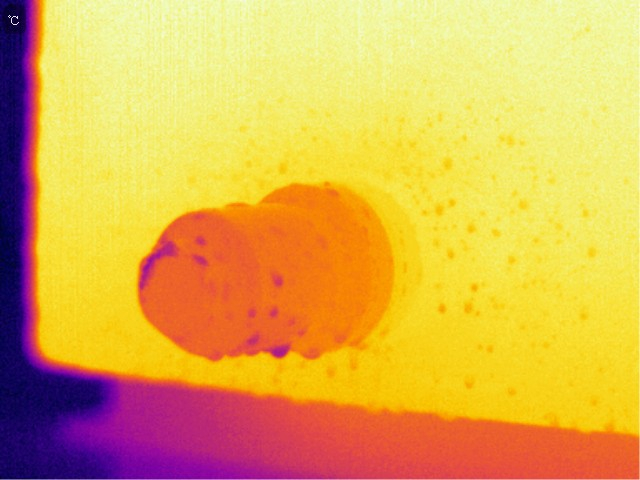Water: (266, 343, 293, 359), (225, 343, 243, 363), (268, 272, 286, 291), (300, 348, 325, 361), (243, 332, 262, 349), (332, 326, 349, 344), (210, 343, 223, 366), (191, 252, 210, 267), (266, 302, 281, 321), (244, 348, 262, 362), (193, 235, 208, 246), (247, 307, 259, 319)
